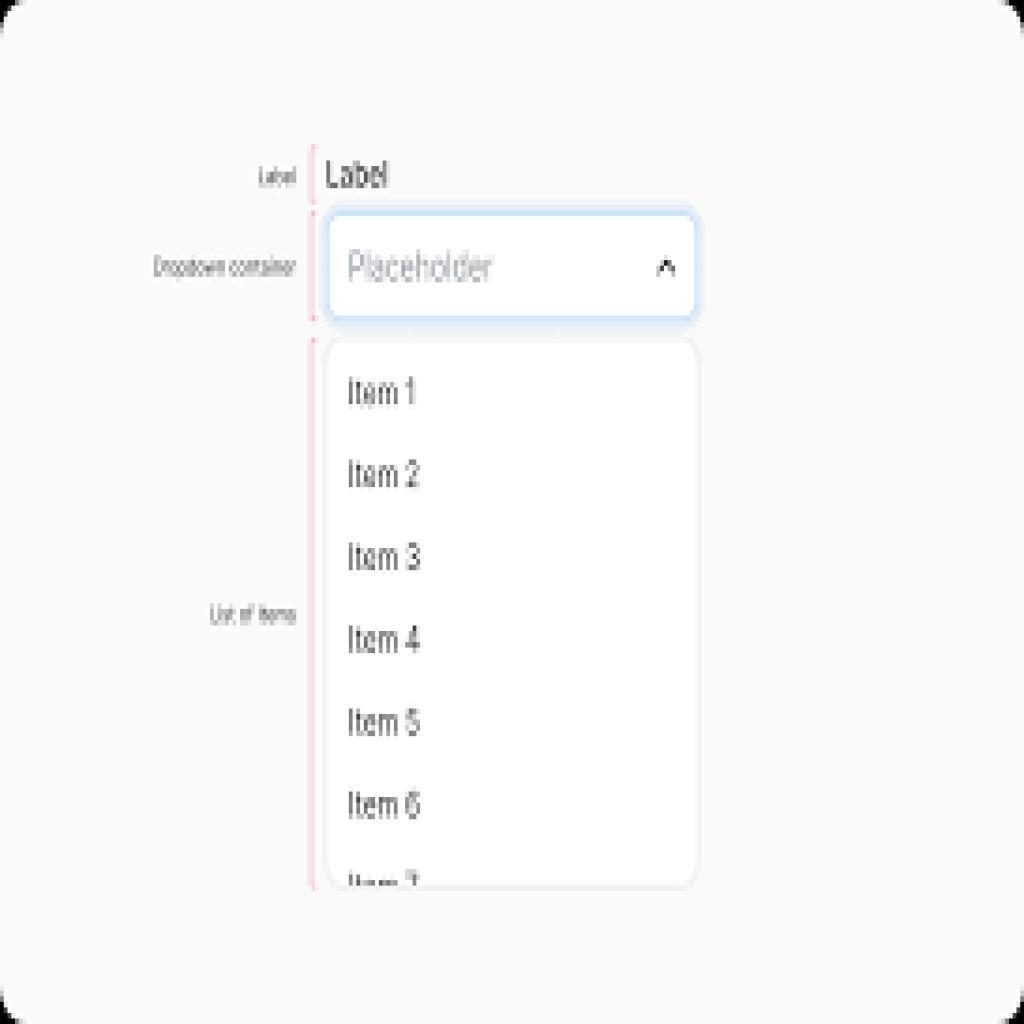dropdown: (323, 215, 697, 317)
